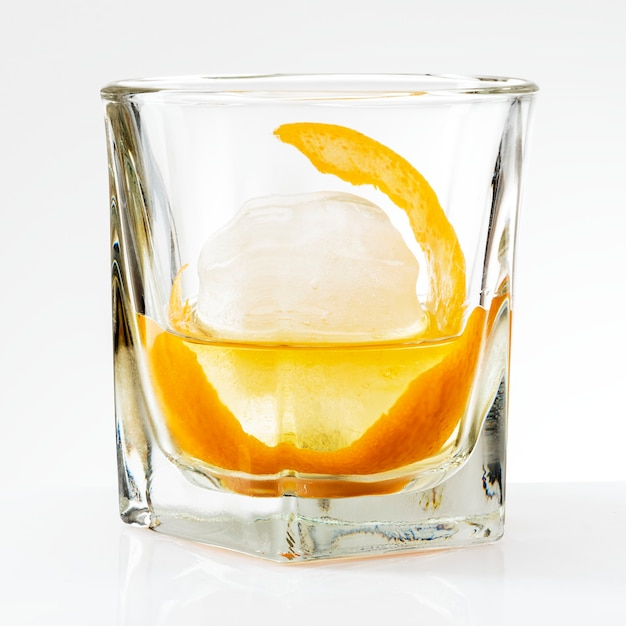alcohol: (97, 73, 543, 569)
